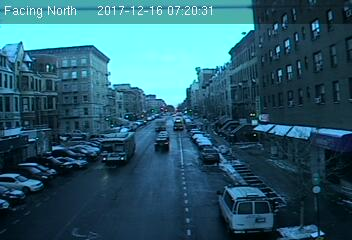bus: (101, 131, 137, 164)
car: (202, 148, 219, 160), (154, 138, 169, 149)
police: (218, 180, 275, 235)
